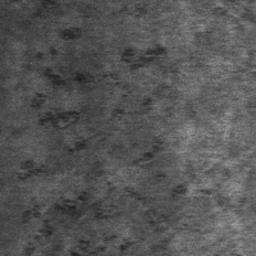Rolled in scale: (12, 0, 256, 256), (198, 0, 256, 30), (112, 4, 160, 32), (0, 28, 10, 58), (248, 171, 256, 182)
